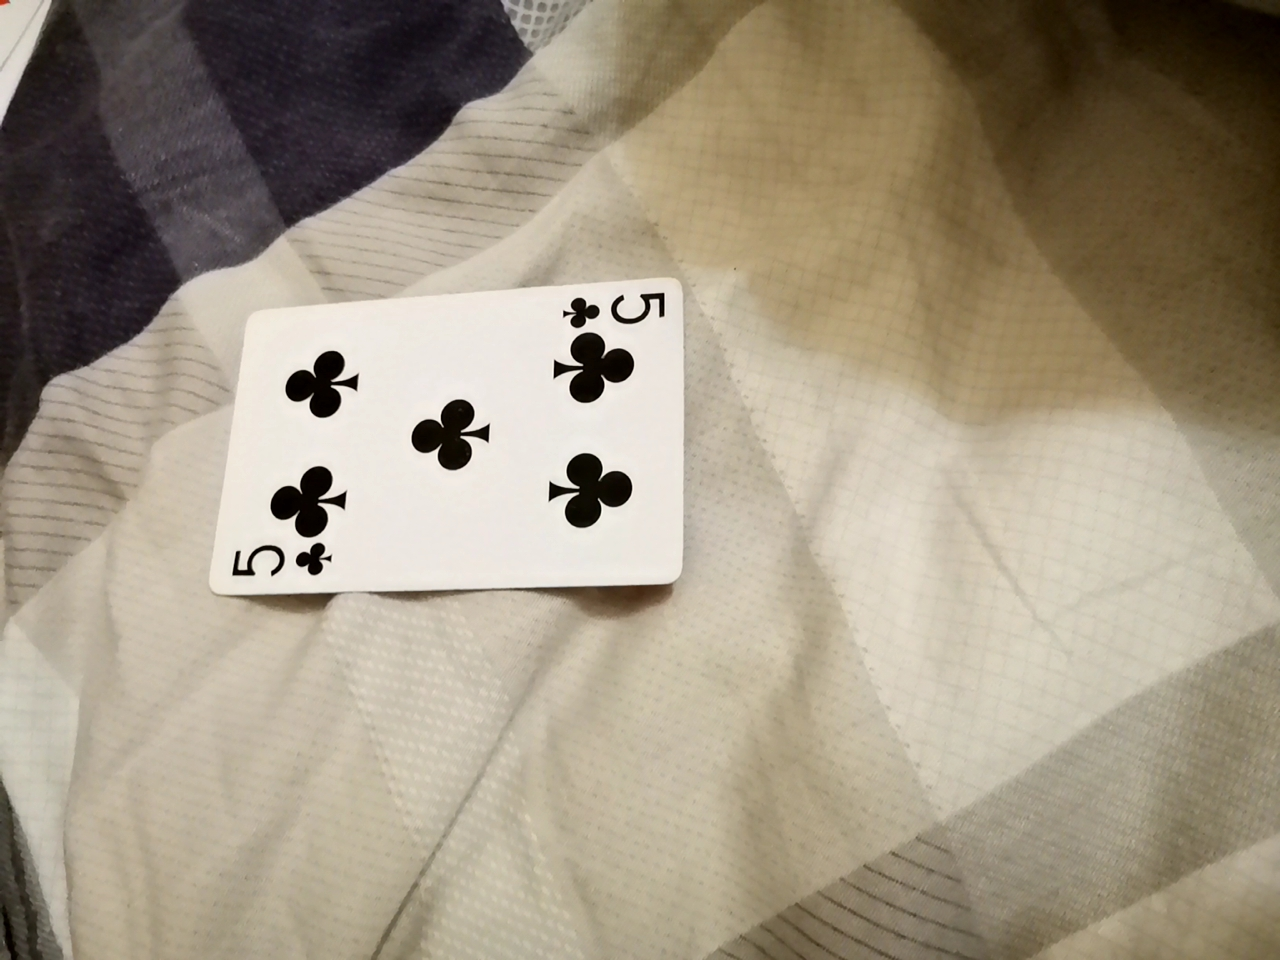mh 5: (233, 284, 689, 604)
